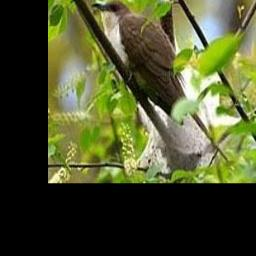Cuckoo: (92, 0, 227, 160)
